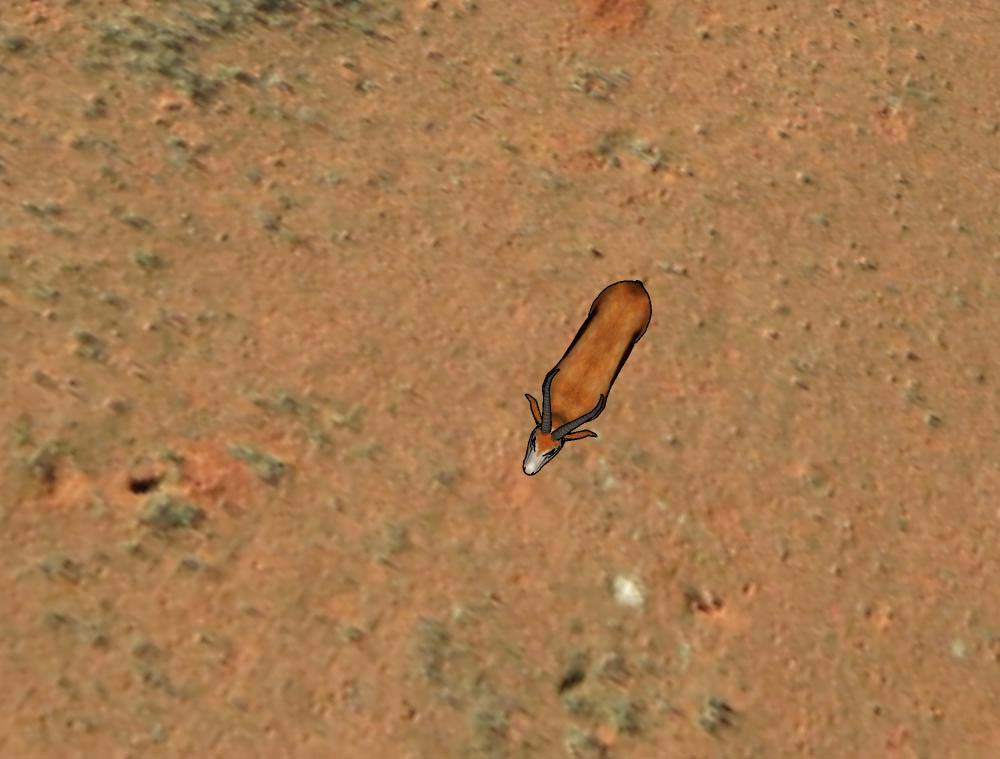springbok: (517, 275, 656, 481)
